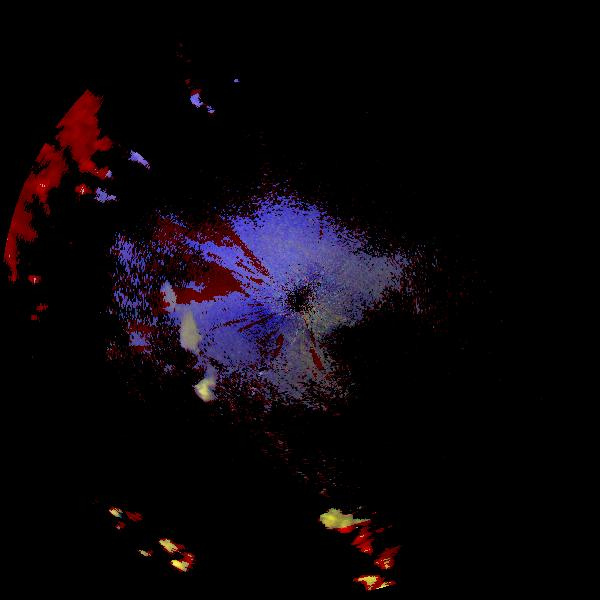roost: (104, 294, 233, 423)
